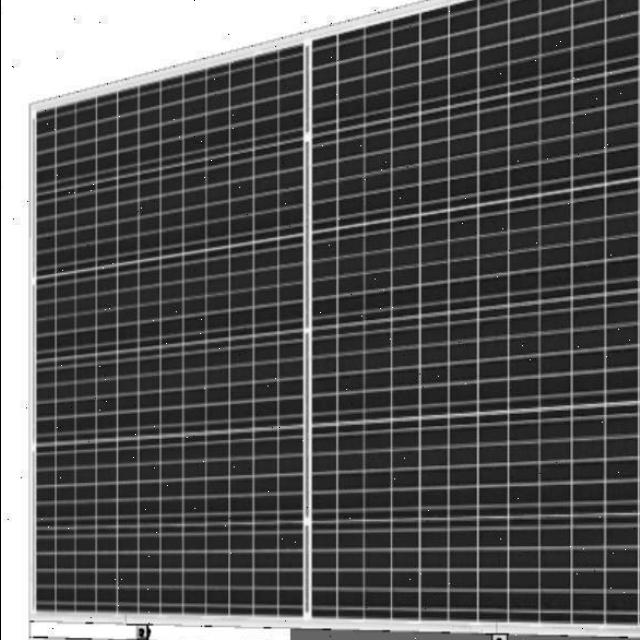Anomaly Solar Panel: (305, 0, 640, 623), (29, 39, 305, 619)
